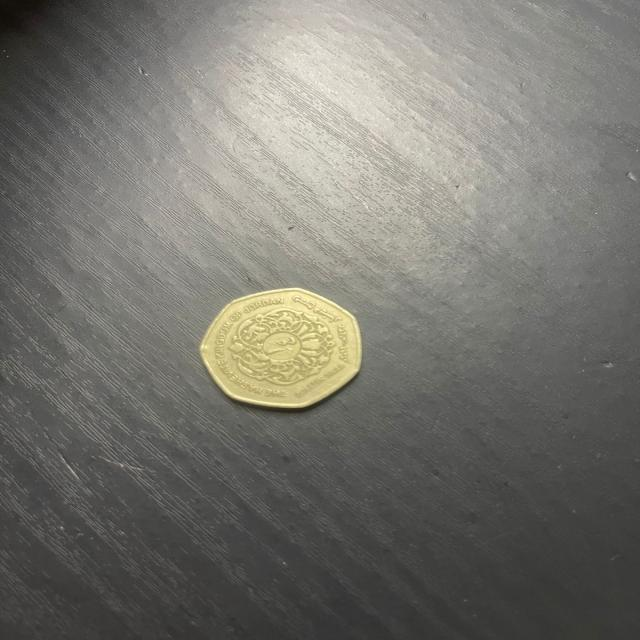25-coins: (200, 284, 365, 412)
